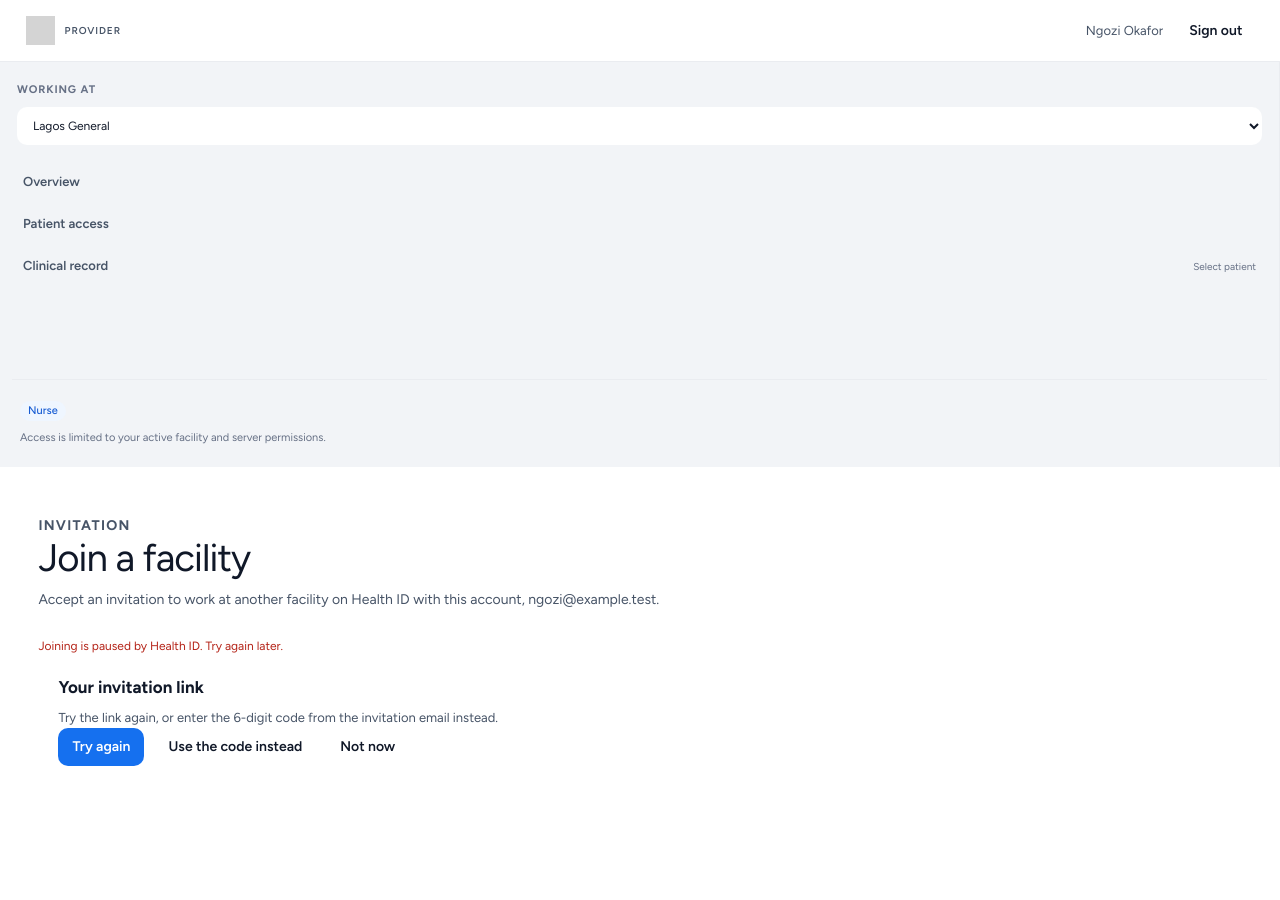
it: joining signed in › after joining paused, offers to try the held link again, which then previews it
The image size is (1280, 900).
Expected: the message reads "Joining is paused by Health ID. Try again later.", [38,639,283,653]
Expected: the button "Use the code instead" is shown, [154,728,316,766]
Click the button "Try again".
click(101, 747)  # box [58,728,144,766]
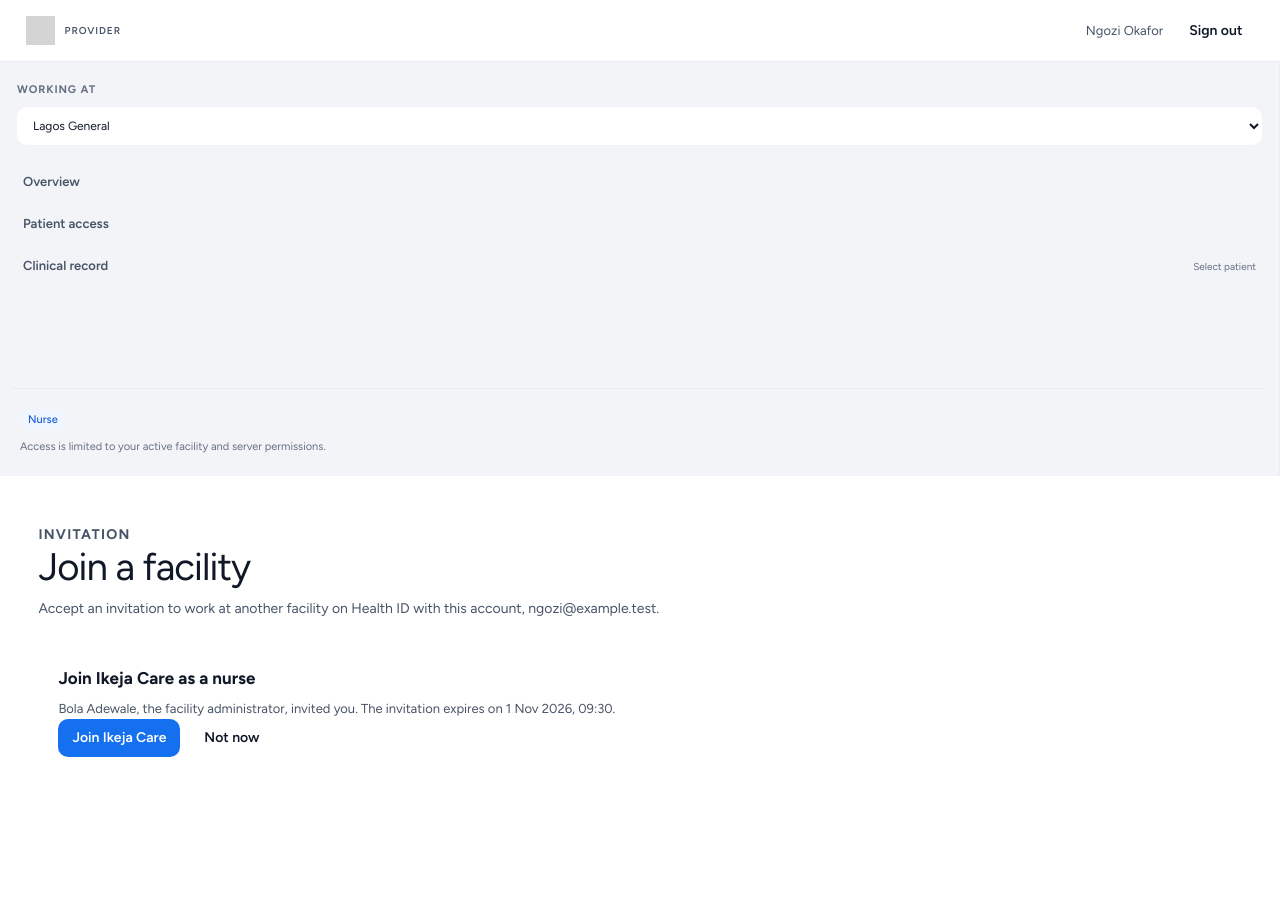
Expected: the heading "Join Ikeja Care as a nurse" is shown, [58,668,255,688]
Expected: the message "Joining is paused by Health ID. Try again later." is gone
